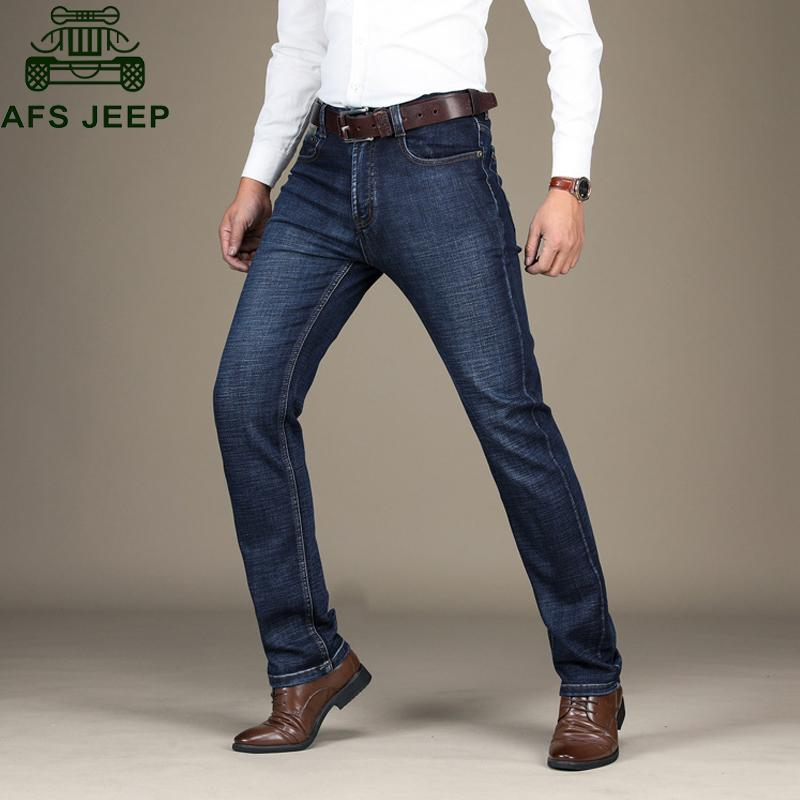jeans: (206, 97, 632, 701)
